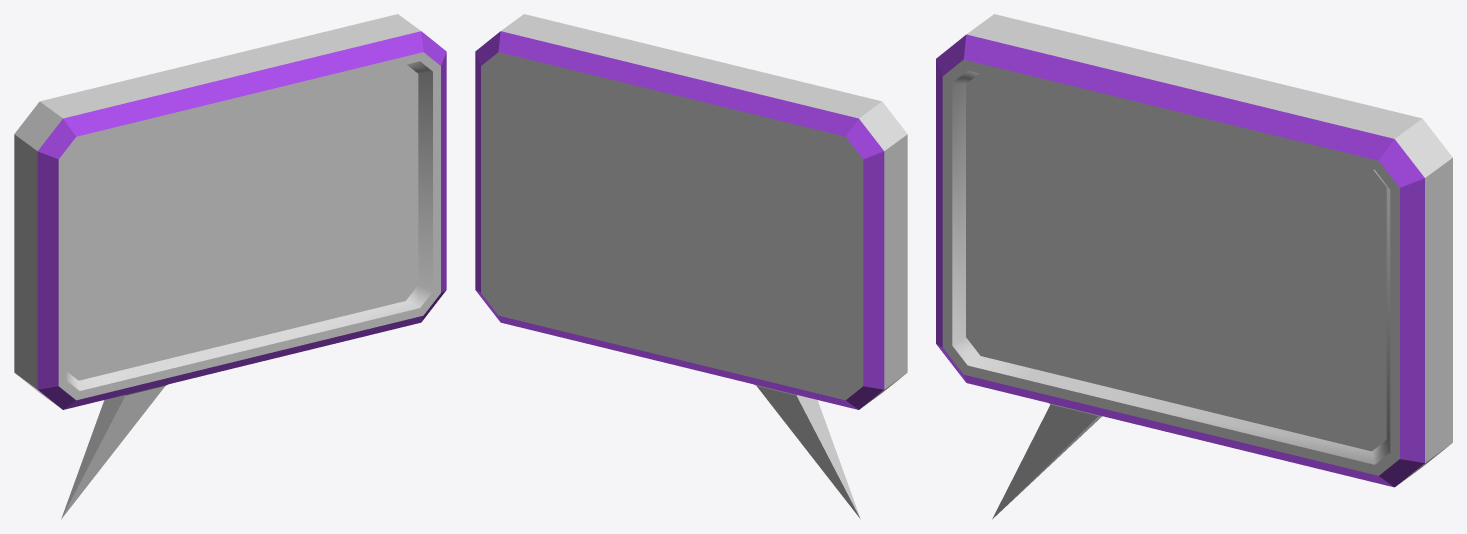
Rendered from DialogueBox.fbx.
3 views of the same model, side by side, from view 1: azimuth 30°, elevation 25°; view 2: azimuth 150°, elevation 25°; view 3: azimuth 330°, elevation 25° (orthographic). The views are drawn at different scales.
Parts seen in each view (by area): view 1: Dialogue Box; view 2: Dialogue Box; view 3: Dialogue Box.
Boxes of the visible parts, x1,y1,x2,y2 form: Dialogue Box: (14,14,446,519); Dialogue Box: (475,14,907,519); Dialogue Box: (936,14,1452,519).
Bounding box in the file's own units: 2.94 × 2.83 × 0.4827.
